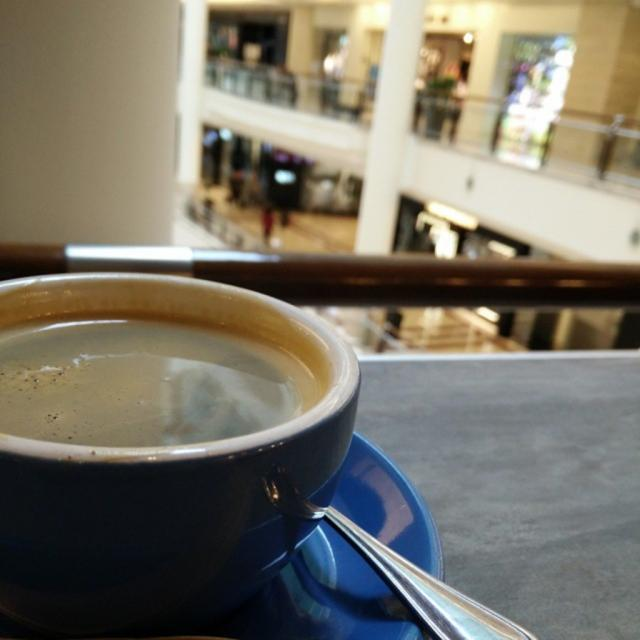Coffee: (0, 304, 334, 449)
